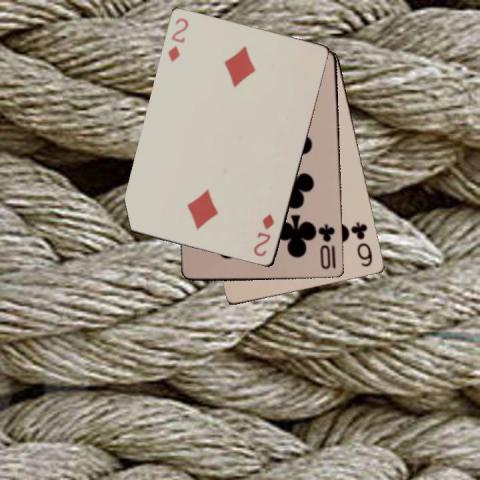10c: (316, 222, 337, 272)
2d: (165, 15, 190, 64), (251, 210, 276, 258)
6c: (349, 219, 374, 269)
